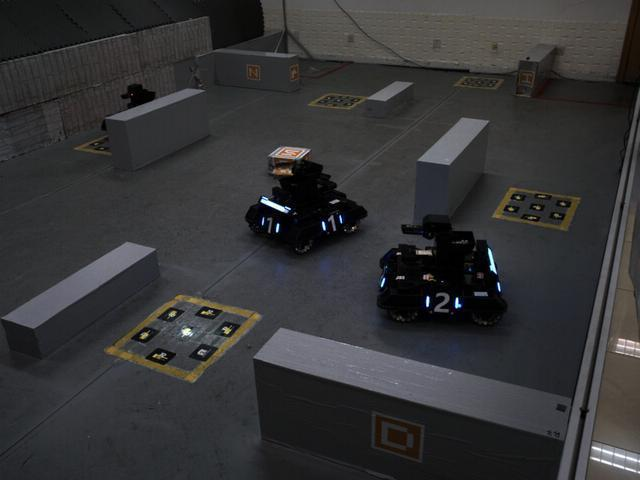armor: (420, 287, 466, 319), (316, 212, 347, 235), (257, 210, 282, 237)
